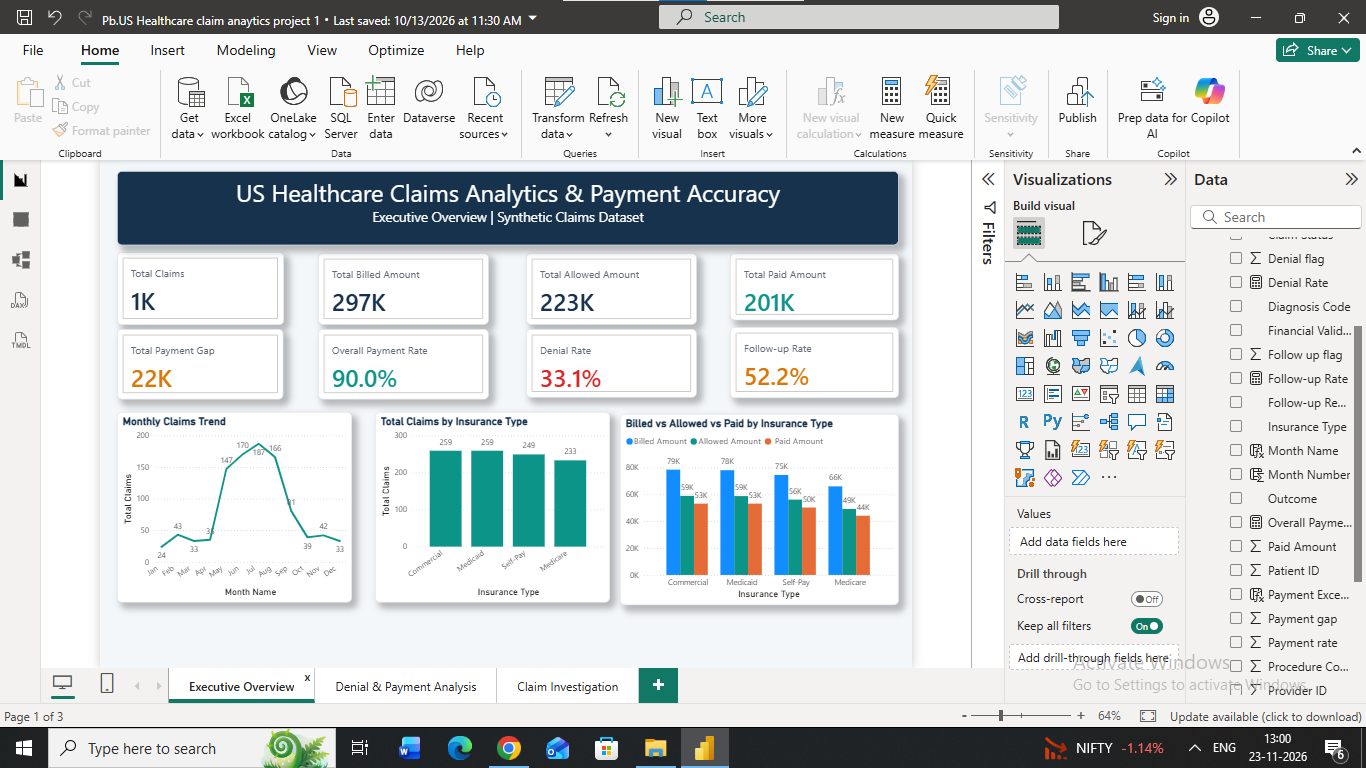

The page's visual inventory and layout, read from the dashboard file:
{"tool":"powerbi","page":{"name":"Executive Overview","canvas":[1280,800],"ordinal":0},"visuals":[{"type":"cardVisual","fields":{"Data":["claim_data.Total Claims"]},"box":[26.8,144.9,263,115],"z":0},{"type":"cardVisual","fields":{"Data":["claim_data.Total Billed Amount","claim_data.Total Billed Amount"]},"box":[343,146,269.3,113.4],"z":1000},{"type":"cardVisual","fields":{"Data":["claim_data.Total Allowed Amount"]},"box":[670.4,146,269.3,113.4],"z":2000},{"type":"cardVisual","fields":{"Data":["claim_data.Total Paid Amount"]},"box":[992.1,146,266.5,106.3],"z":3000},{"type":"cardVisual","fields":{"Data":["claim_data.Total Payment Gap"]},"box":[27.4,266.4,262.1,110.9],"z":4000},{"type":"cardVisual","fields":{"Data":["claim_data.Overall Payment Rate"]},"box":[342.7,266.4,269.3,110.9],"z":5000},{"type":"cardVisual","fields":{"Data":["claim_data.Denial Rate"]},"box":[671,266.4,269.3,108],"z":6000},{"type":"cardVisual","fields":{"Data":["claim_data.Follow-up Rate"]},"box":[992.1,263,266.1,111.8],"z":7000},{"type":"textbox","box":[26.8,17.3,1231.5,116.5],"z":8000},{"type":"lineChart","title":"Monthly Claims Trend","fields":{"Y":["claim_data.Total Claims"],"Category":["claim_data.Month Name"]},"box":[26.9,396.9,370,300],"z":9000},{"type":"clusteredColumnChart","fields":{"Category":["claim_data.Insurance Type"],"Y":["claim_data.Total Claims"]},"box":[433.7,396.9,370,300],"z":10000},{"type":"clusteredColumnChart","title":" Billed vs Allowed vs Paid by Insurance Type","fields":{"Category":["claim_data.Insurance Type"],"Y":["Sum(claim_data.Billed Amount)","Sum(claim_data.Allowed Amount)","Sum(claim_data.Paid Amount)"]},"box":[818.9,400,439.4,300.8],"z":11000}]}

Visuals, with their boxes on the page's 1280x800 design canvas (x1, y1, x2, y2). These are canvas units, not pixel positions in the 1366x768 screenshot, which may show the page scaled, cropped or inside an application window:
cardVisual - claim_data.Total Claims: rect(27, 145, 290, 260)
cardVisual - claim_data.Total Billed Amount x claim_data.Total Billed Amount: rect(343, 146, 612, 259)
cardVisual - claim_data.Total Allowed Amount: rect(670, 146, 940, 259)
cardVisual - claim_data.Total Paid Amount: rect(992, 146, 1259, 252)
cardVisual - claim_data.Total Payment Gap: rect(27, 266, 290, 377)
cardVisual - claim_data.Overall Payment Rate: rect(343, 266, 612, 377)
cardVisual - claim_data.Denial Rate: rect(671, 266, 940, 374)
cardVisual - claim_data.Follow-up Rate: rect(992, 263, 1258, 375)
textbox: rect(27, 17, 1258, 134)
"Monthly Claims Trend" lineChart: rect(27, 397, 397, 697)
clusteredColumnChart - claim_data.Insurance Type x claim_data.Total Claims: rect(434, 397, 804, 697)
" Billed vs Allowed vs Paid by Insurance Type" clusteredColumnChart: rect(819, 400, 1258, 701)
